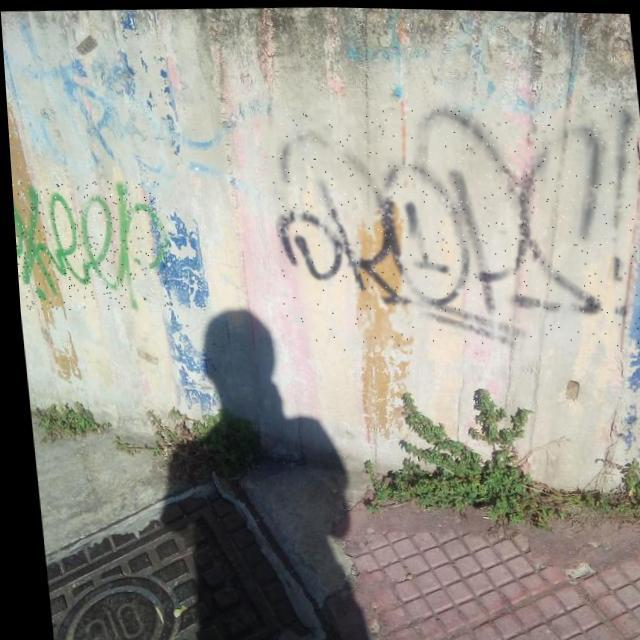-: (261, 95, 640, 356), (10, 177, 168, 314)
